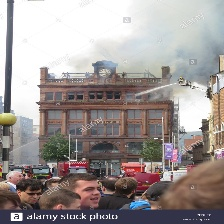smoke: (74, 1, 224, 70)
